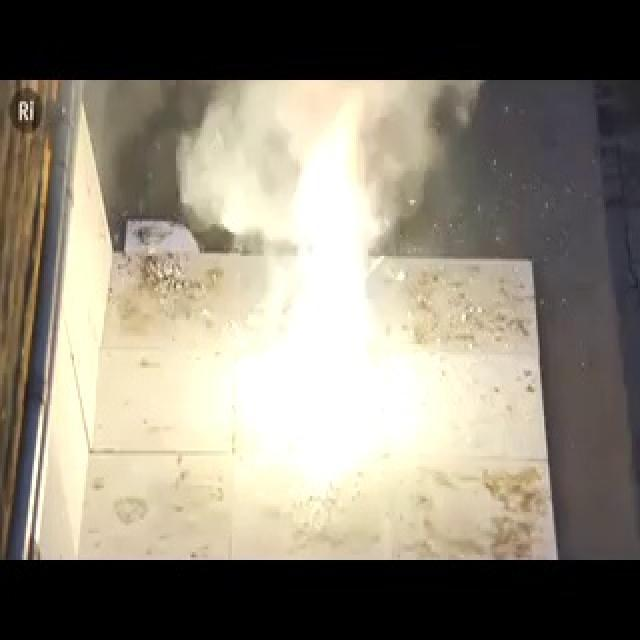fire: (237, 125, 401, 480)
